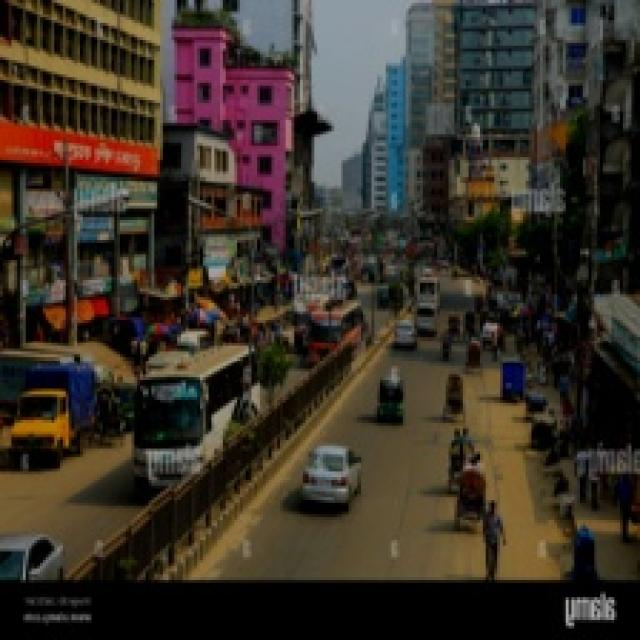car: (298, 439, 370, 511), (5, 529, 67, 585), (415, 302, 444, 334), (393, 318, 419, 348), (450, 264, 462, 282)
rickshaw: (454, 460, 493, 530), (92, 388, 129, 446), (442, 369, 467, 422), (445, 434, 475, 477), (464, 338, 484, 373)
